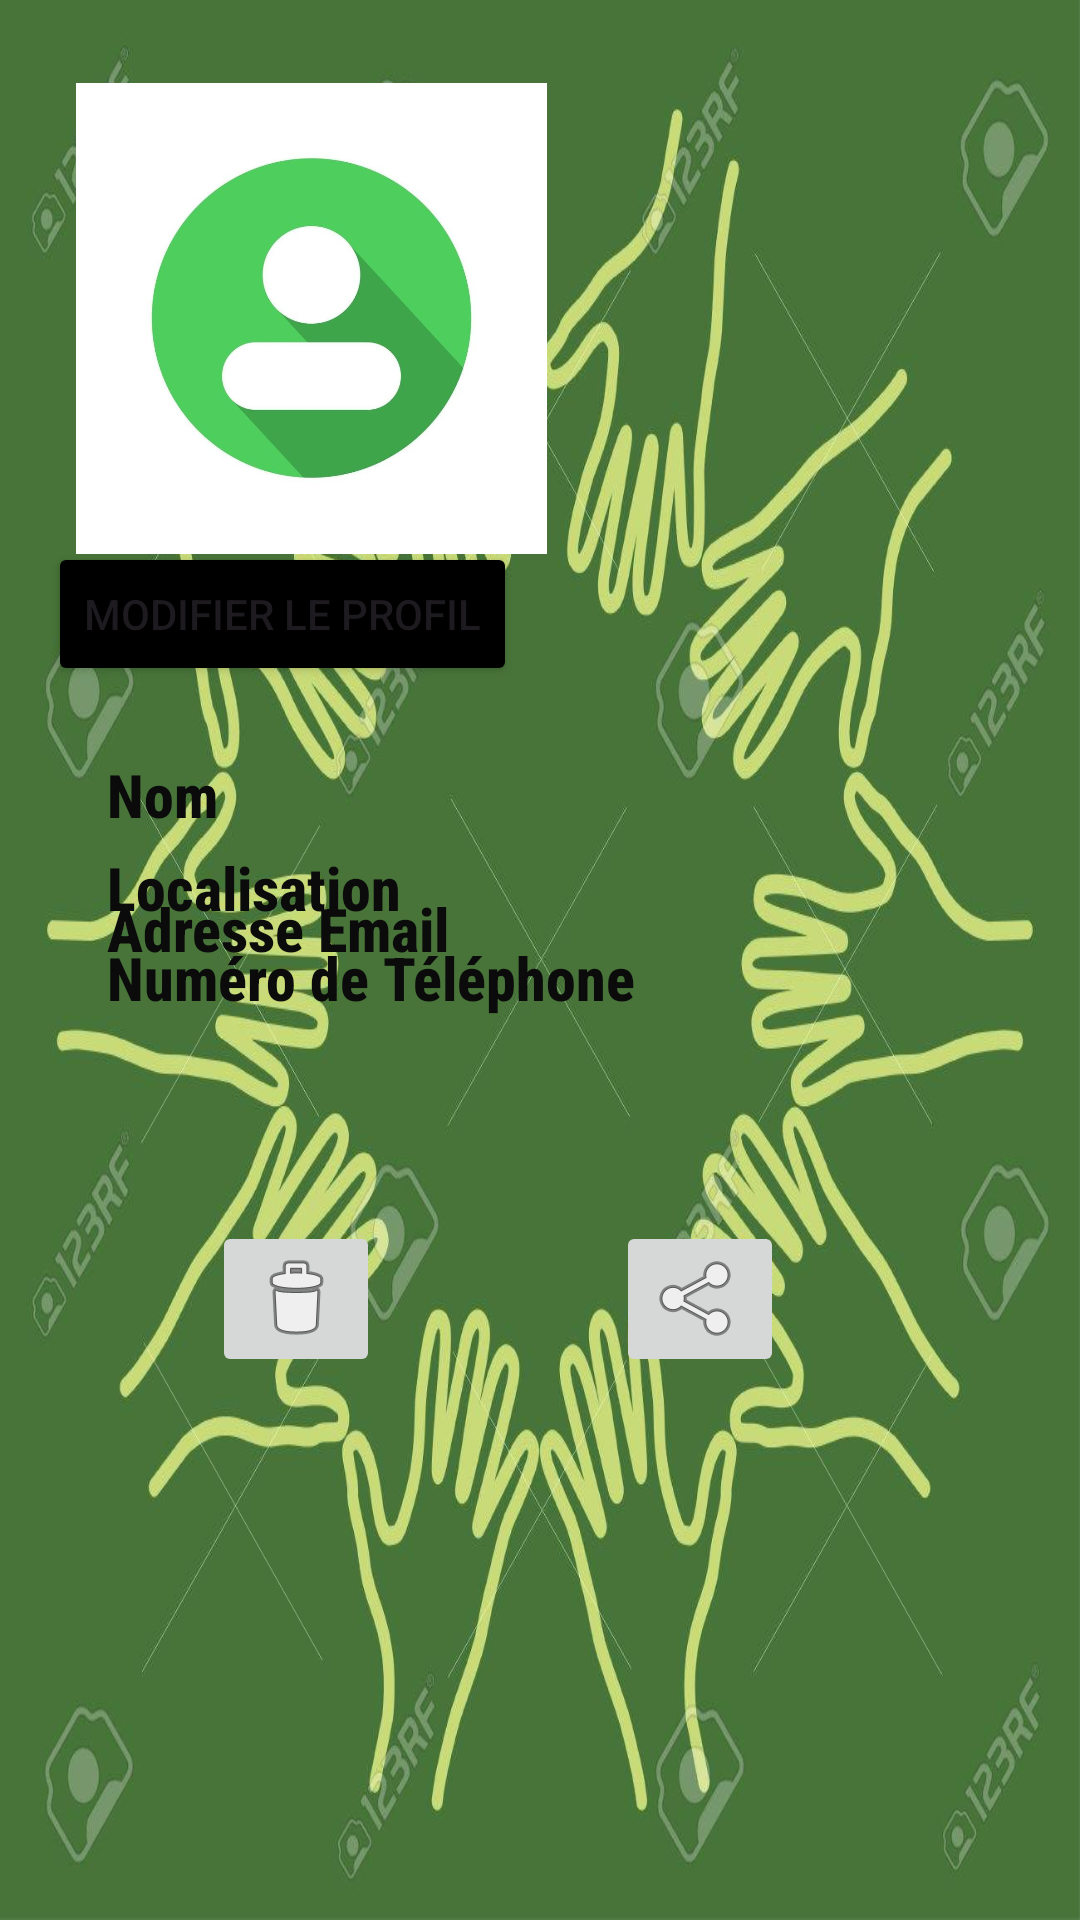

Named icons in this screenshot (1080w x 1920h) and their bounding boxes, (x1, y1, x2, y2):
partager le profil: (616, 1221, 784, 1377)
supprimer le profil: (212, 1221, 380, 1377)
